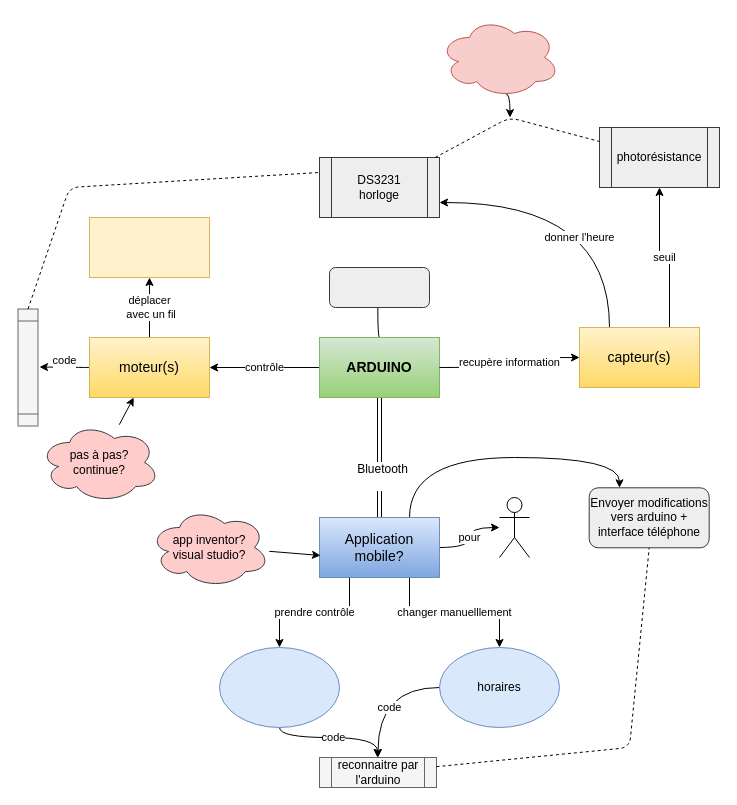
This 737x805 diagram has some shape labels left out. The shapes that lost their labels are listed below. From the top down, each one's box as (x1, y1, x2, y2) in pixels, then its label:
(438, 16, 560, 98): attention au conflit de boucle
(88, 216, 210, 278): porte
(328, 266, 430, 308): relier les sous programmes
(498, 496, 530, 558): Actor
(218, 646, 340, 728): manuel / automatique
